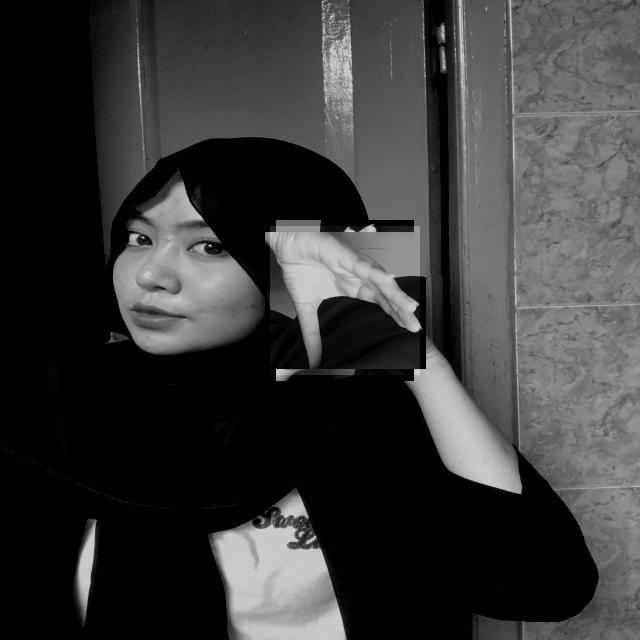mendengar: (270, 226, 420, 375)
